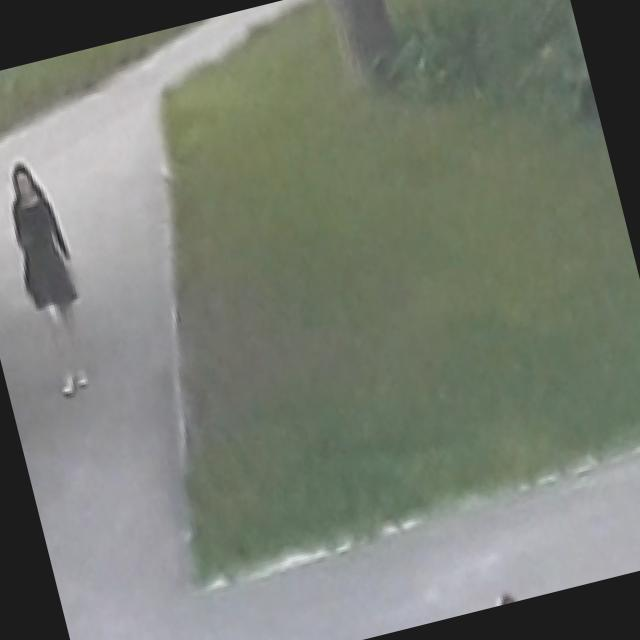person: (0, 151, 104, 400)
